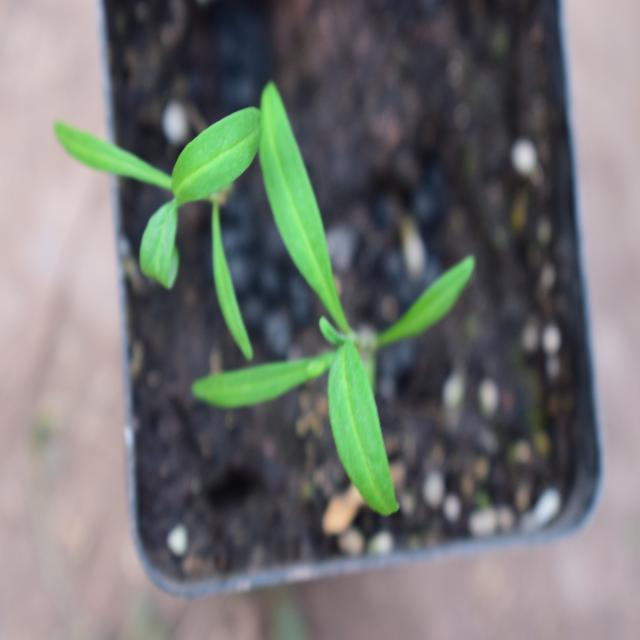white_smart_weed: (263, 67, 447, 520), (55, 82, 268, 356)
